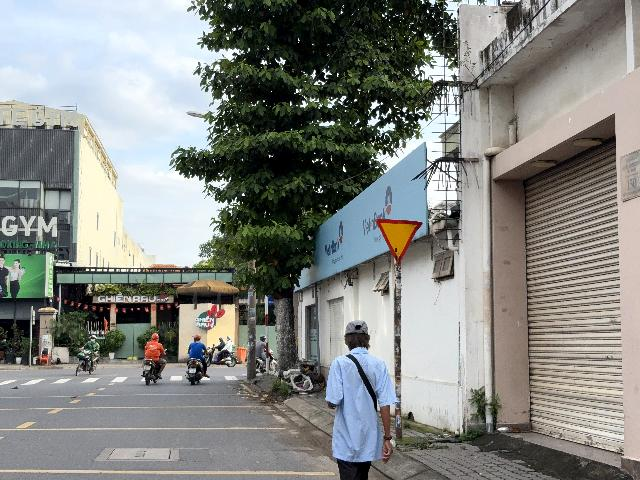giao-nhau-voi-duong-uu-tien: (375, 219, 423, 263)
